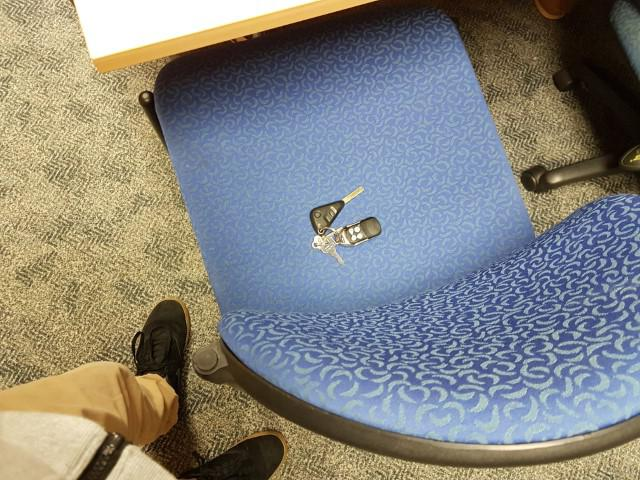key: (311, 186, 364, 234)
